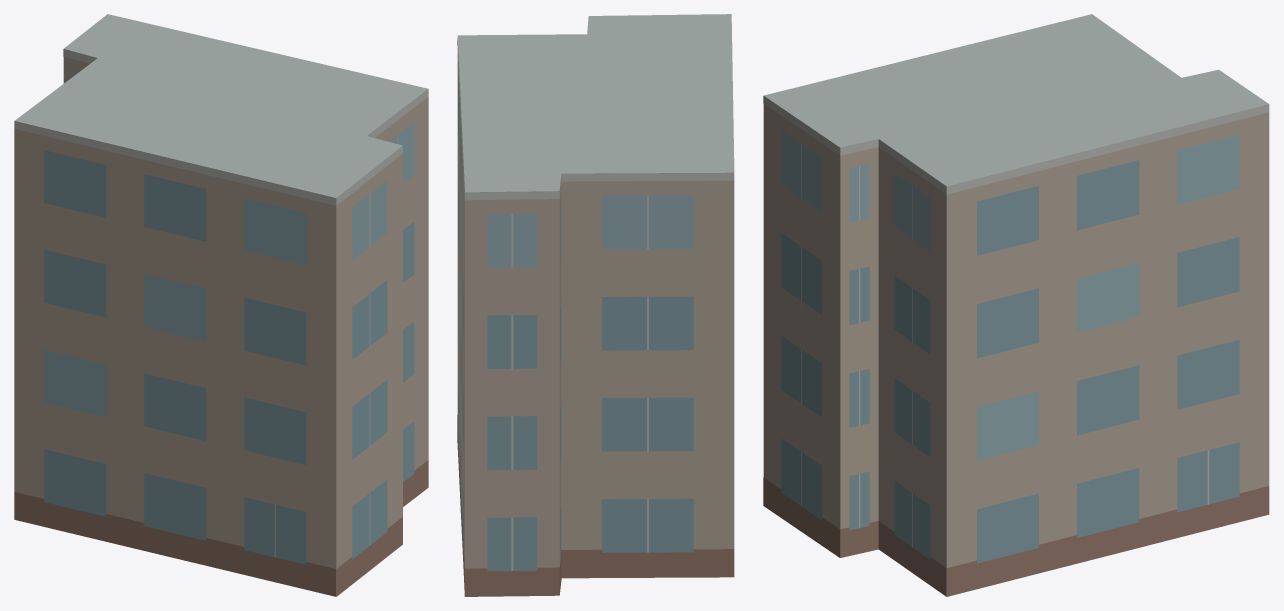
File: survey-upis-32487664.glb
3 views of the same model, side by side, from view 1: azimuth 30°, elevation 25°; view 2: azimuth 150°, elevation 25°; view 3: azimuth 270°, elevation 25° (orthographic). The views are drawn at different scales.
Visible parts, largest first — view 1: survey-upis-32487664.tmp; view 2: survey-upis-32487664.tmp; view 3: survey-upis-32487664.tmp.
Part boxes in pixels (box(x1,y1,x2,y2)): survey-upis-32487664.tmp: box(14, 14, 428, 596); survey-upis-32487664.tmp: box(457, 14, 734, 596); survey-upis-32487664.tmp: box(763, 14, 1269, 596).
Bounding box in the file's own units: 11.23 × 12.45 × 13.92.
